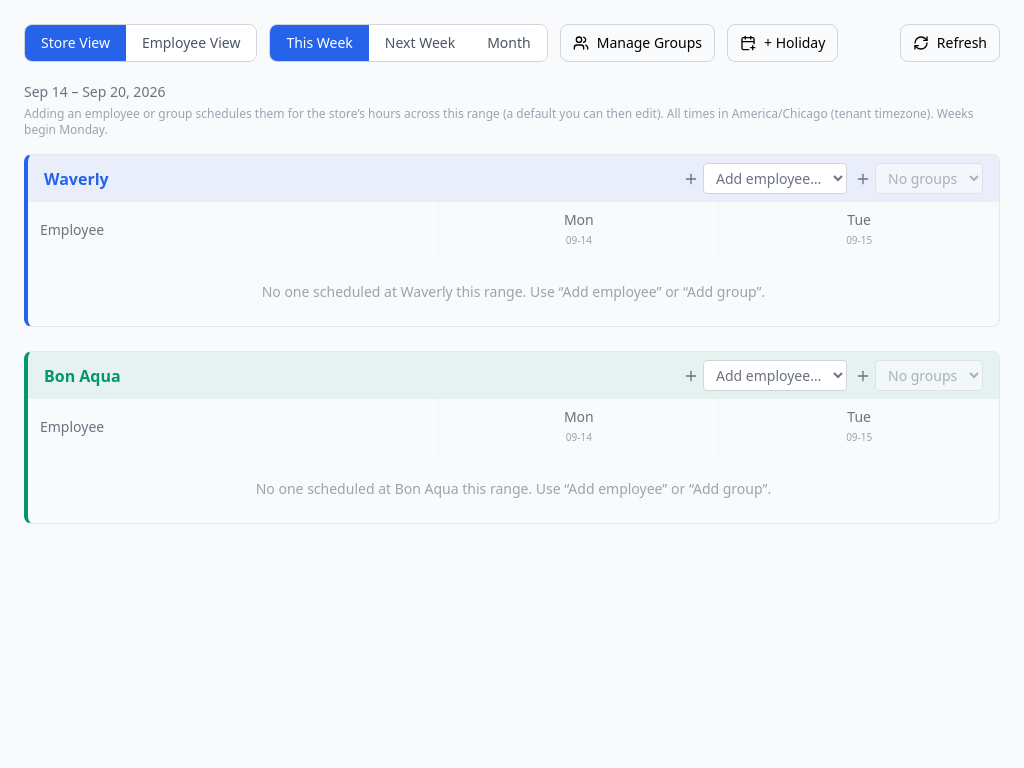
it: ScheduleHolidayModal › opens from the + Holiday toolbar control in Store View
This screenshot has width=1024, height=768.
Expected: the heading "Waverly" is shown, [44,166,109,190]
Click the button "+ Holiday". click: (783, 43)
box: [727,24,838,62]
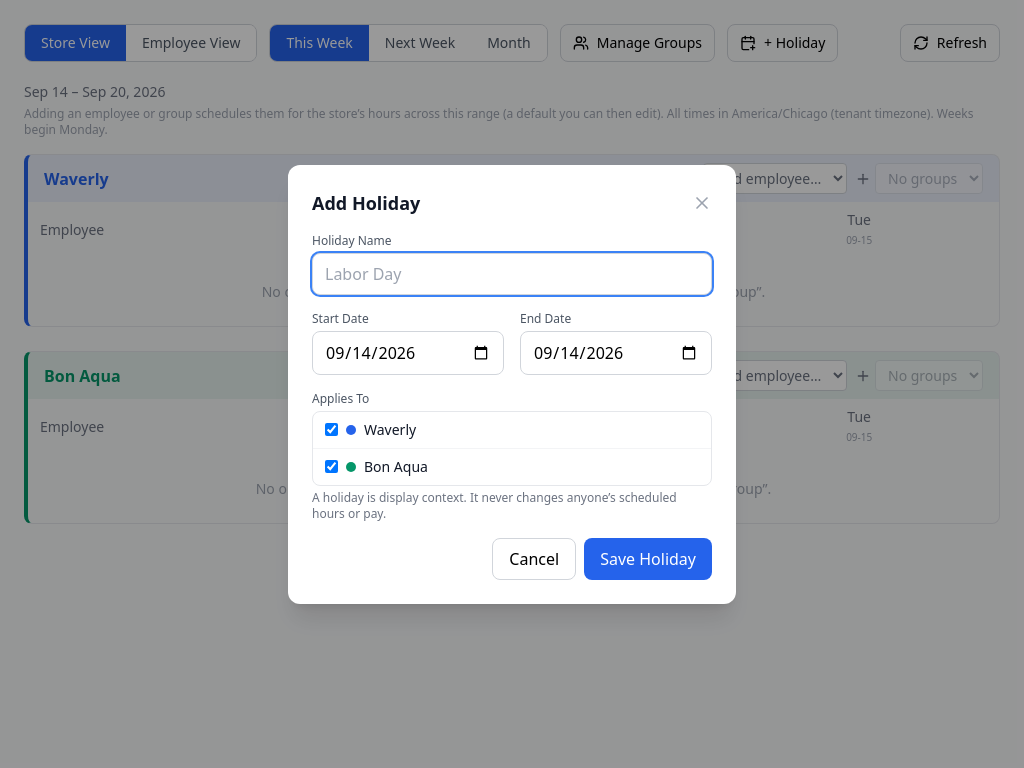
Result: the dialog "Add Holiday" is shown at [288,164,736,604]
